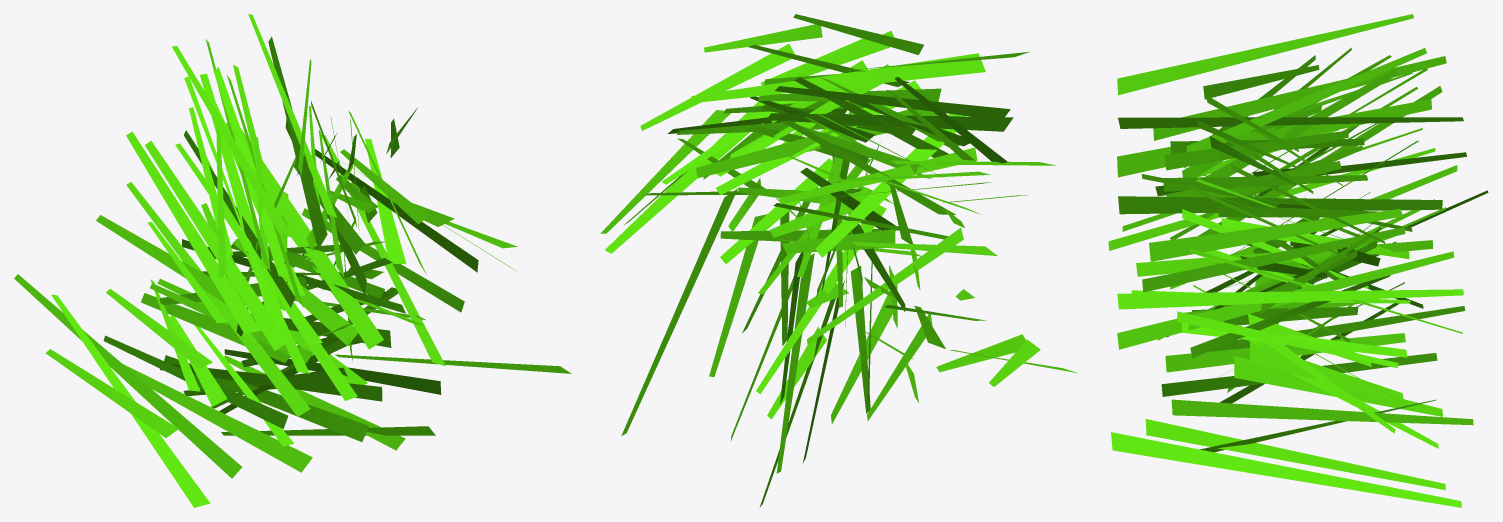
The model's file is tuft_simple.dae.
3 renders of one model, left to right at view 1: azimuth 30°, elevation 25°; view 2: azimuth 150°, elevation 25°; view 3: azimuth 270°, elevation 25°, orthographic. The views are drawn at different scales.
Parts seen in each view (by area): view 1: Tuft; view 2: Tuft; view 3: Tuft.
Boxes of the visible parts, <box> form: Tuft: <box>14,14,571,507</box>; Tuft: <box>600,14,1076,507</box>; Tuft: <box>1108,14,1488,507</box>.
Size of the model in its own units: 3.98 by 3.18 by 4.15.
